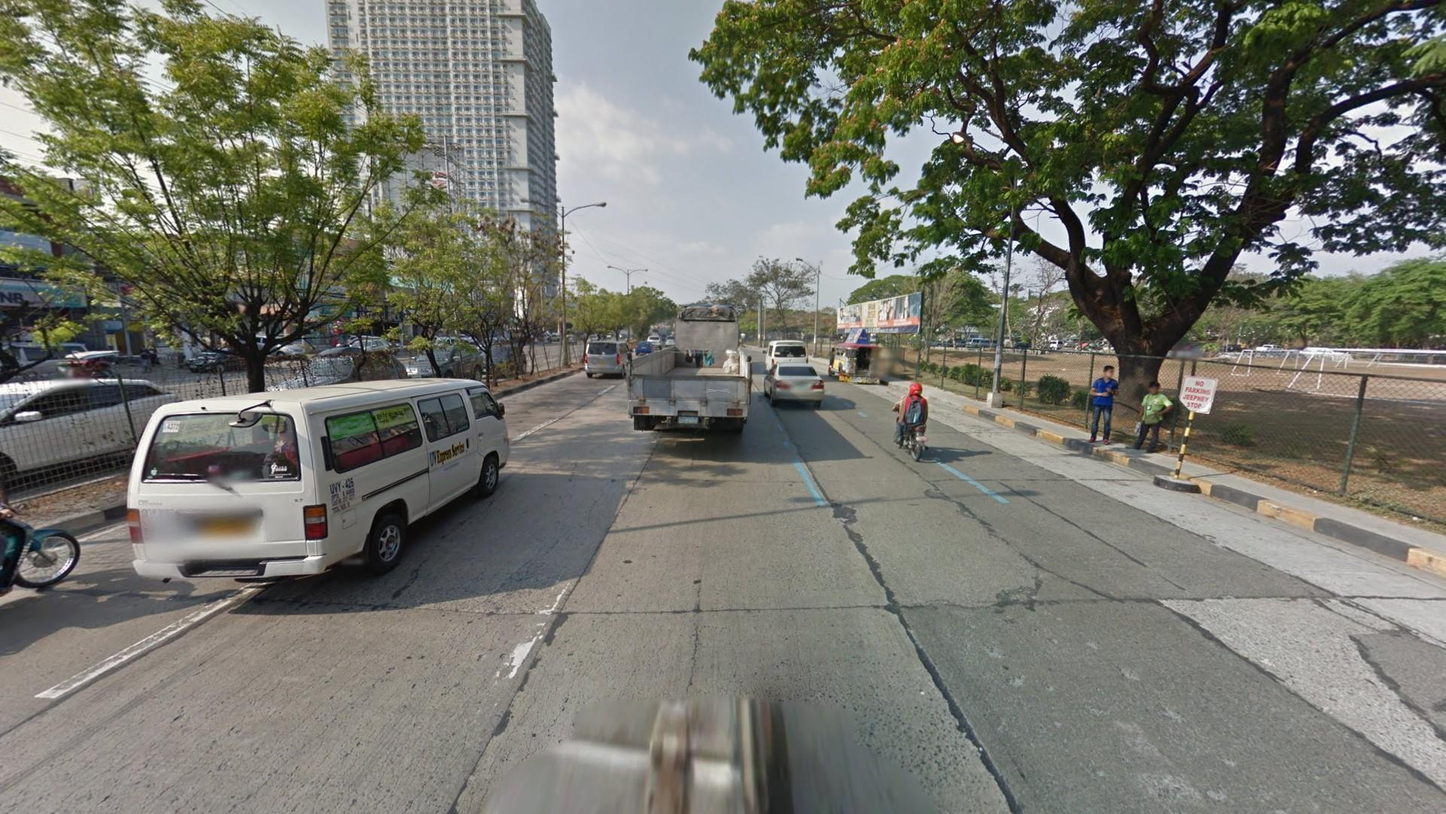pedestrian: (1126, 381, 1175, 454), (1085, 365, 1120, 444), (137, 343, 153, 374)
